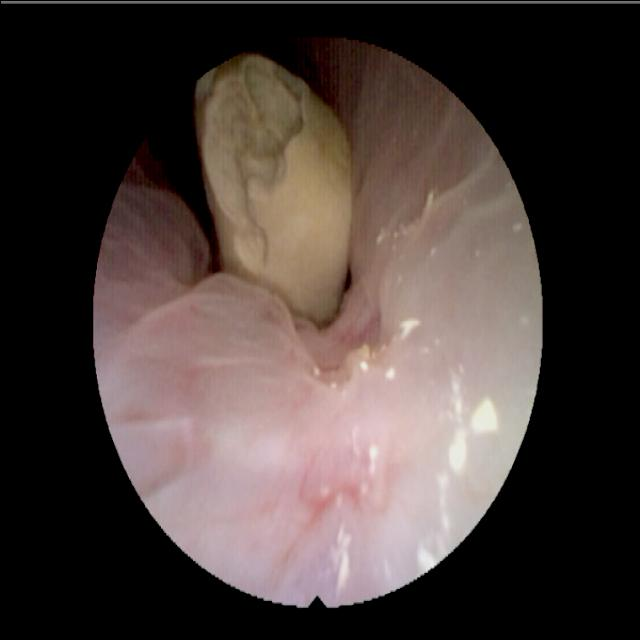stone: (192, 61, 350, 323)
tissue: (97, 53, 532, 602)
